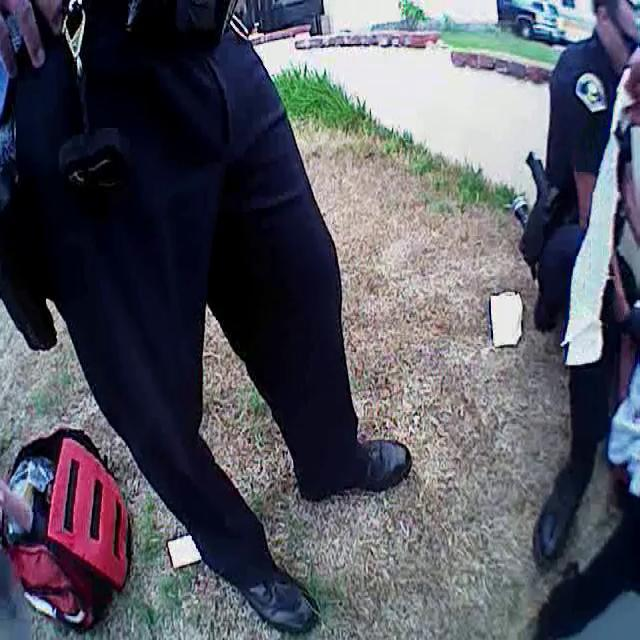gun: (494, 144, 578, 283)
